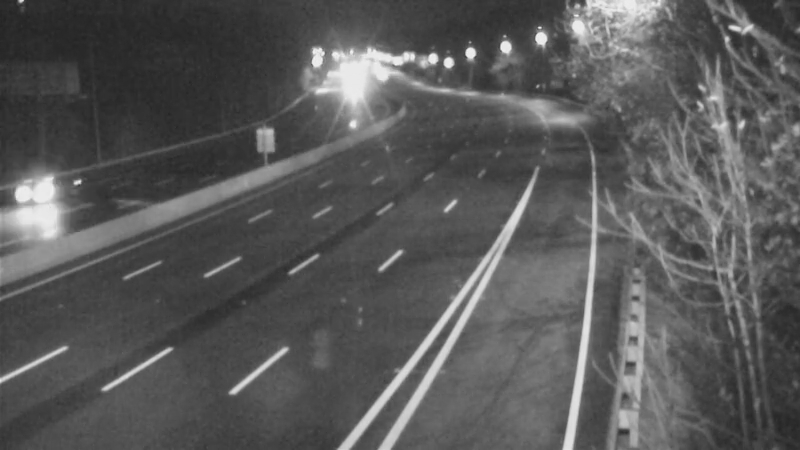vehicle: (9, 149, 89, 229)
